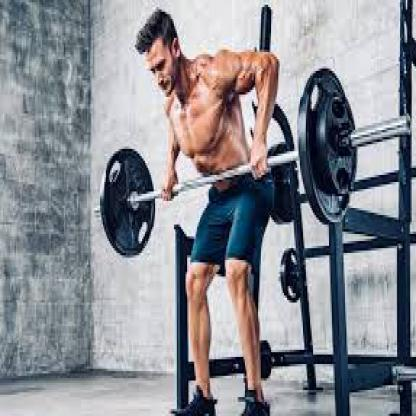Barbell: (290, 63, 412, 231)
